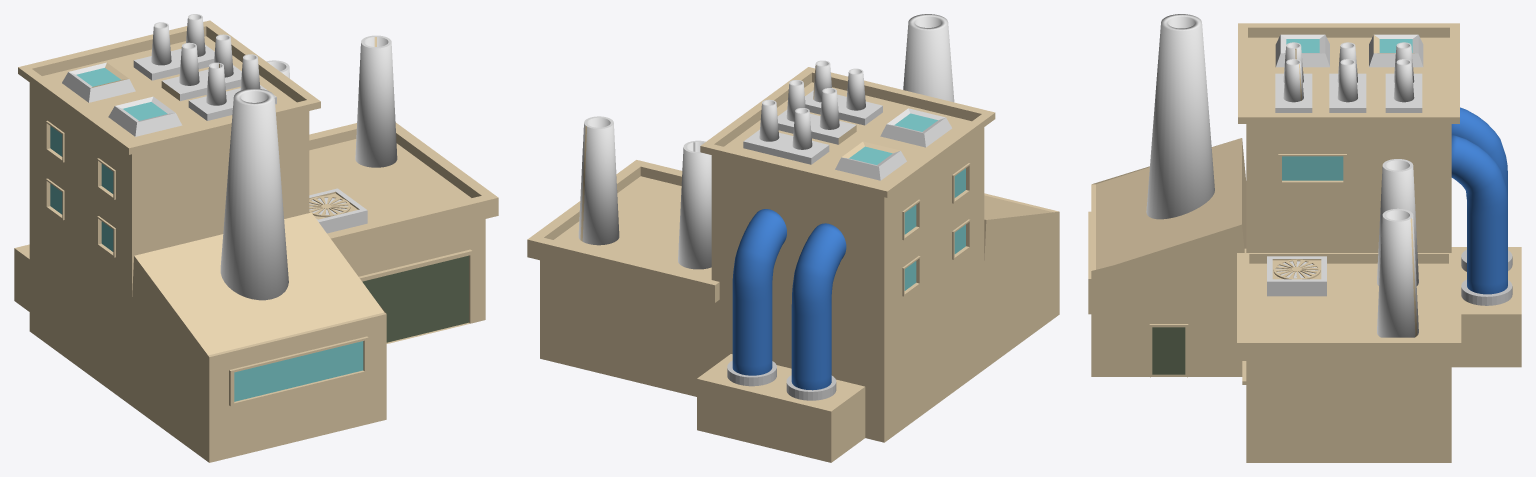
Rendered from factory_01.fbx.
3 views of the same model, side by side, from view 1: azimuth 30°, elevation 25°; view 2: azimuth 150°, elevation 25°; view 3: azimuth 270°, elevation 25° (orthographic). The views are drawn at different scales.
Visible parts, largest first — view 1: Main building; view 2: Main building; view 3: Main building.
Boxes of the visible parts, left/top/right/bottom form: Main building: left=14, top=14, right=498, bottom=462; Main building: left=527, top=14, right=1059, bottom=462; Main building: left=1088, top=14, right=1521, bottom=462.
Bounding box in the file's own units: 416 × 335 × 422.
